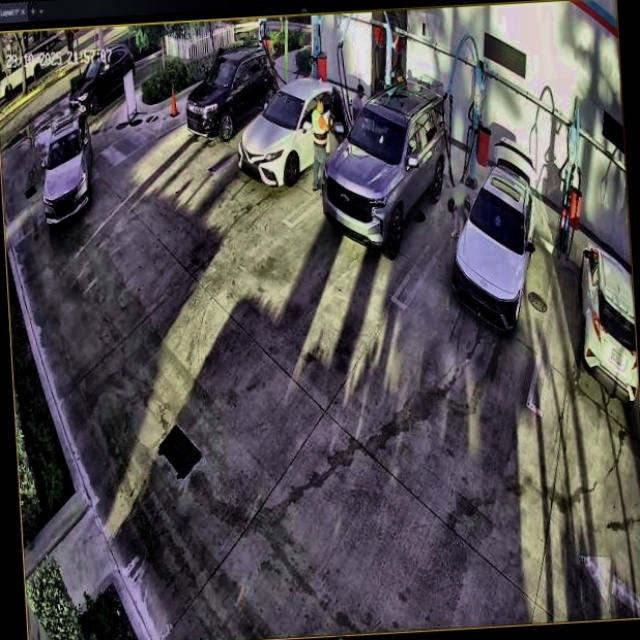Car: (316, 78, 454, 260), (443, 142, 545, 331), (236, 77, 358, 186)
